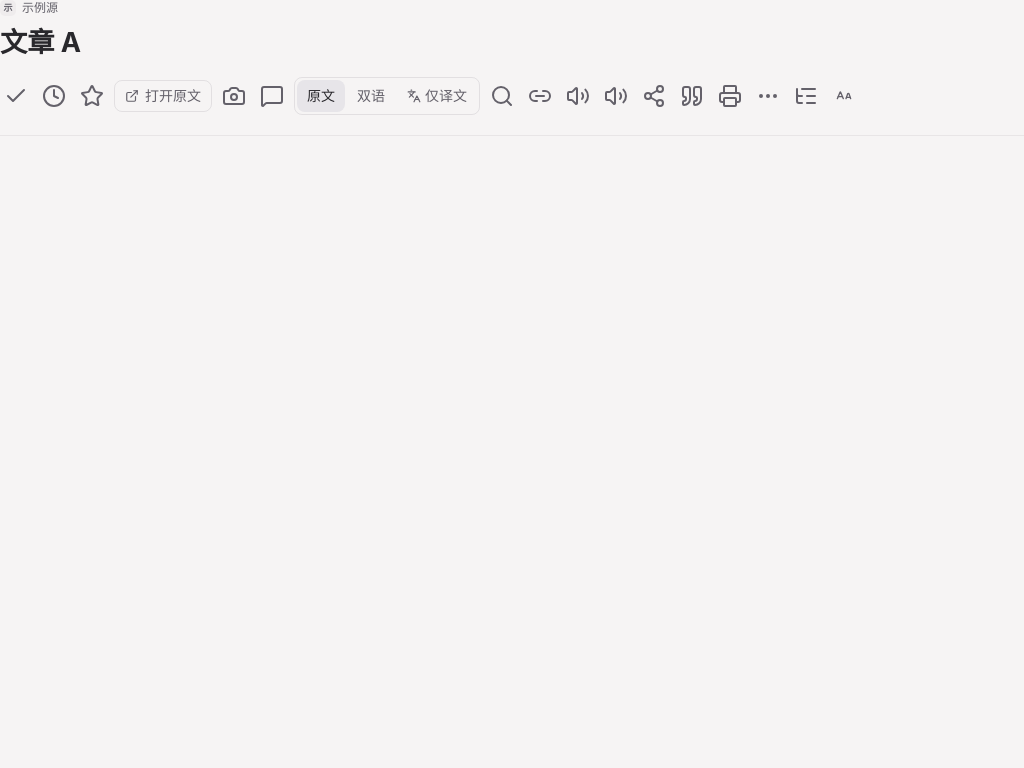
Scenario: P07 — 自定义工具栏对话框 › 取消：丢弃改动（store 与工具栏不变）
Click the button named "更多操作": click(768, 96) [752, 80, 784, 112]
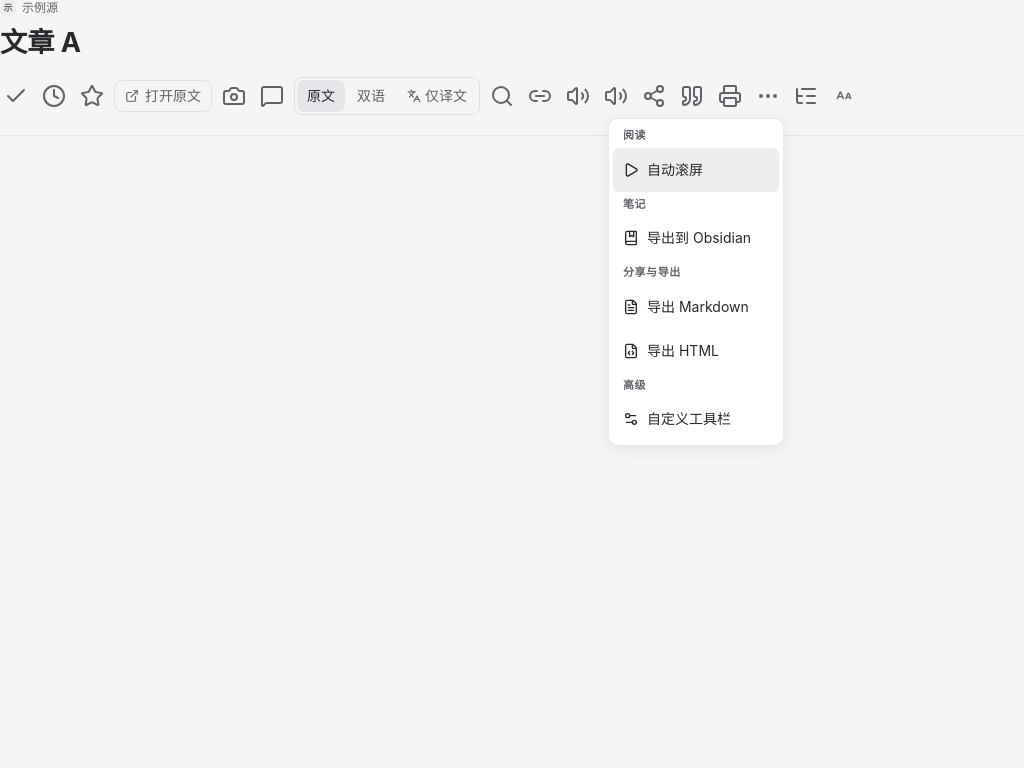
Click the menu item "自定义工具栏": click(677, 418) [623, 410, 731, 427]
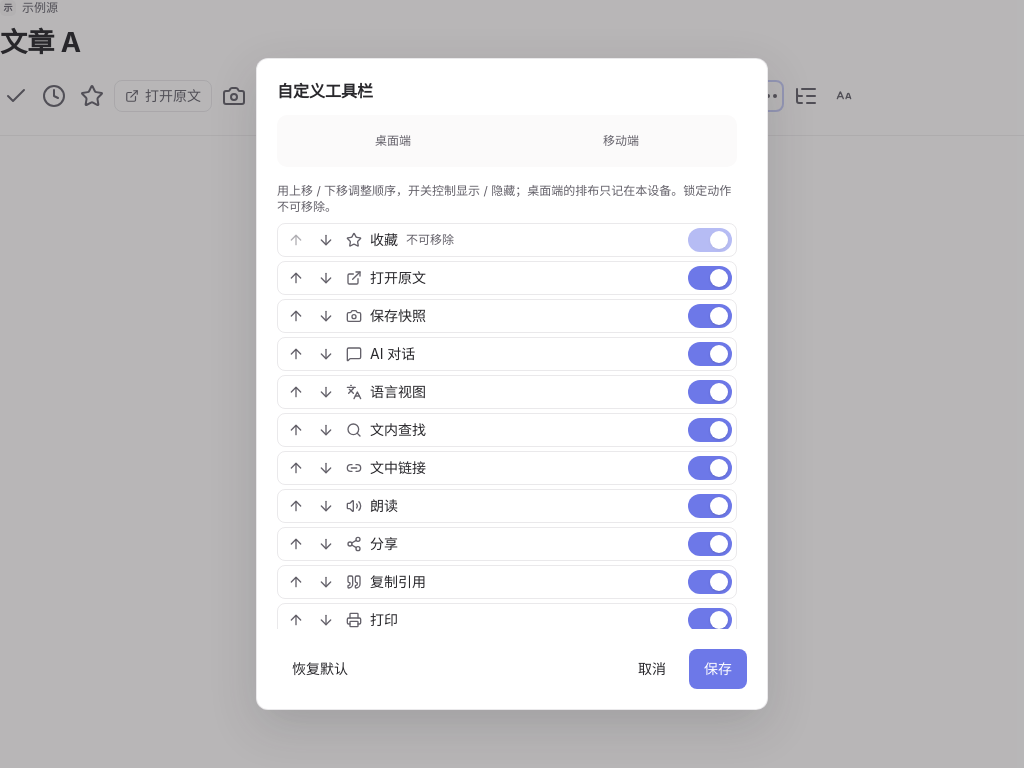
Click the switch named "显示打印": click(710, 620) [688, 608, 732, 632]
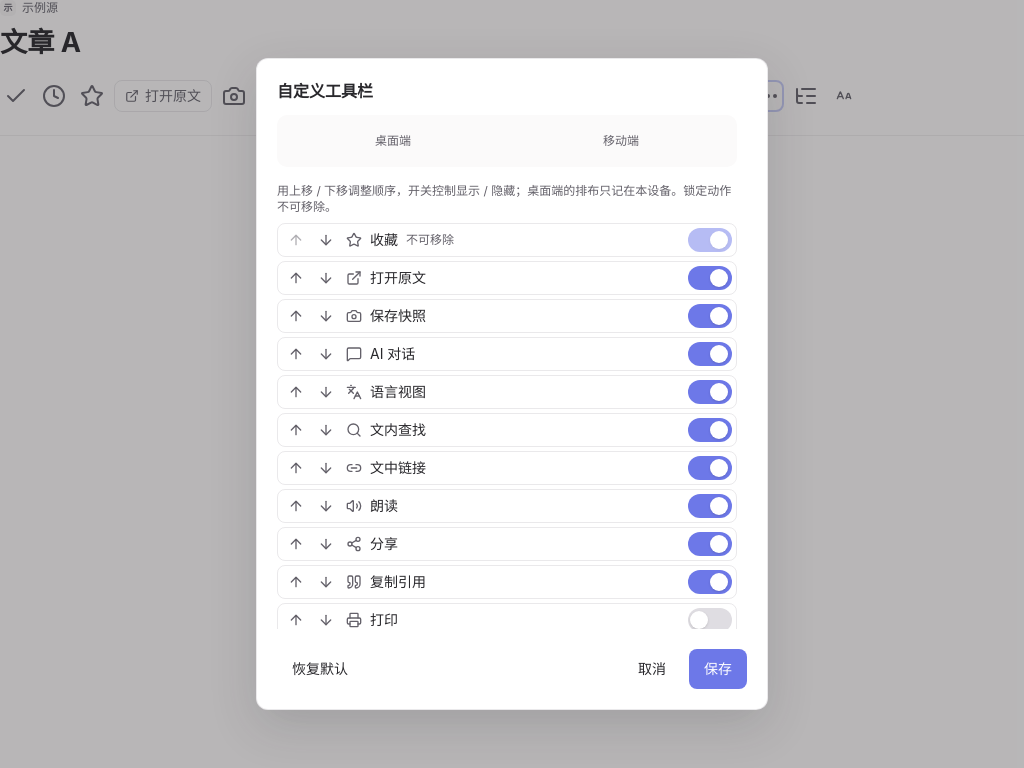
Click the button "取消": click(652, 669) [623, 649, 681, 689]
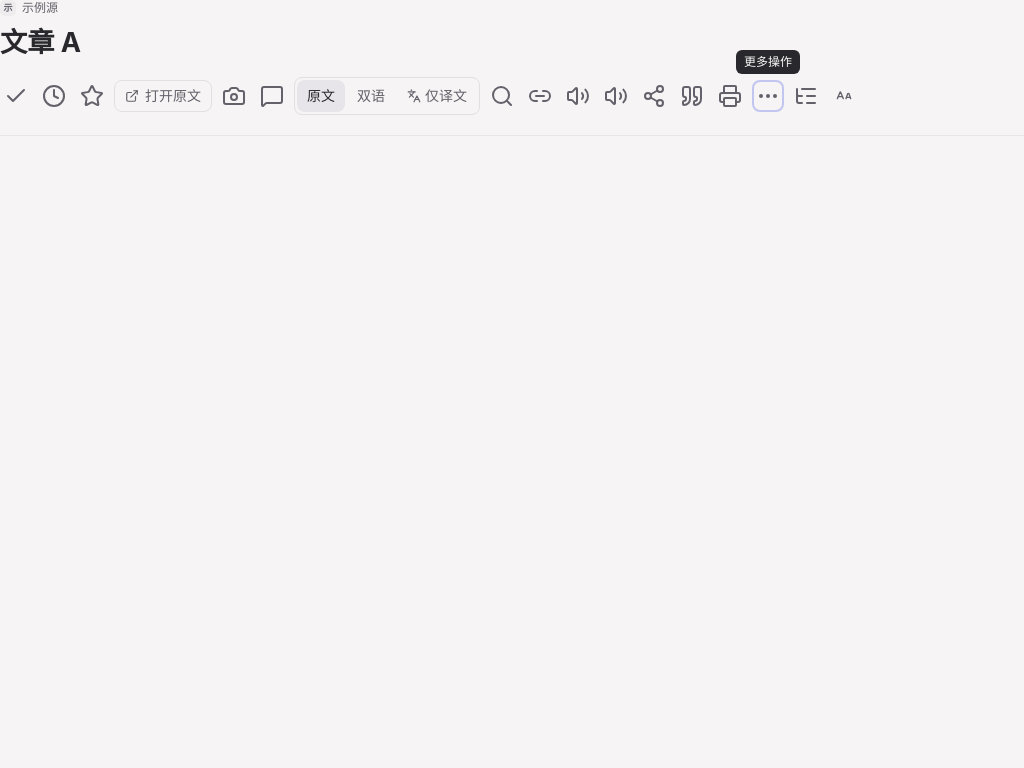
Expected: the button named "打印" is shown, [714, 80, 746, 112]
Now the dialog is gone
